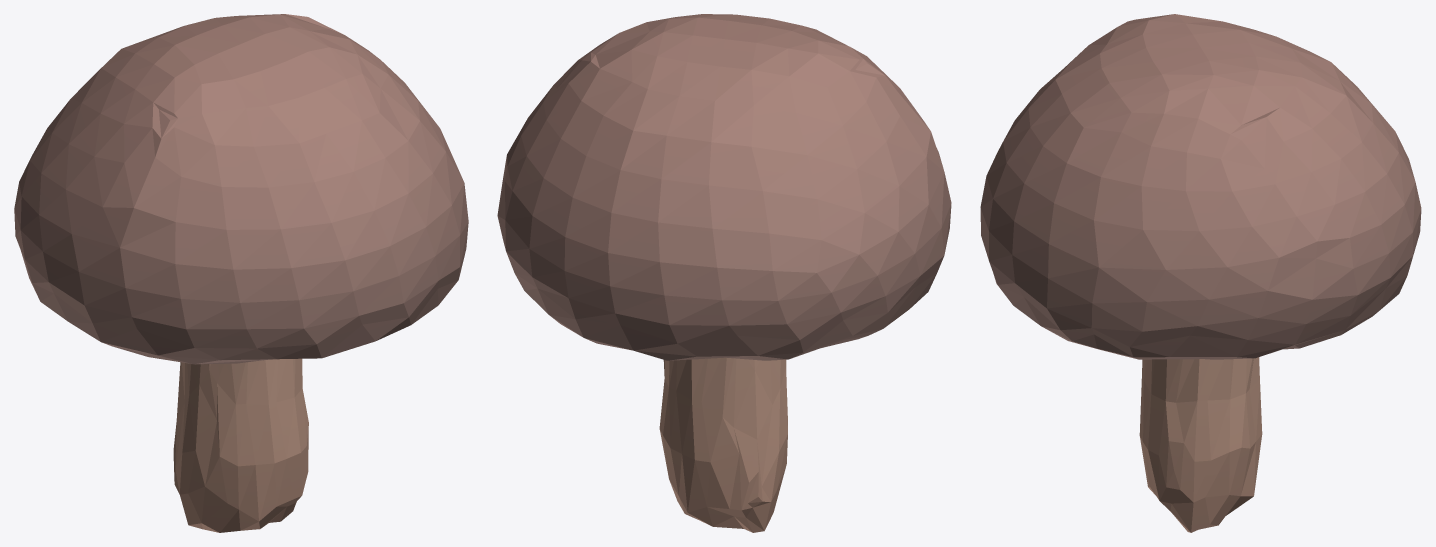
File: mushroom.glb
The picture shows the model from 3 angles, left to right: view 1: azimuth 30°, elevation 25°; view 2: azimuth 150°, elevation 25°; view 3: azimuth 270°, elevation 25°; orthographic projection. The views are drawn at different scales.
Bounding box in the file's own units: 0.4739 × 0.5646 × 0.4775.
